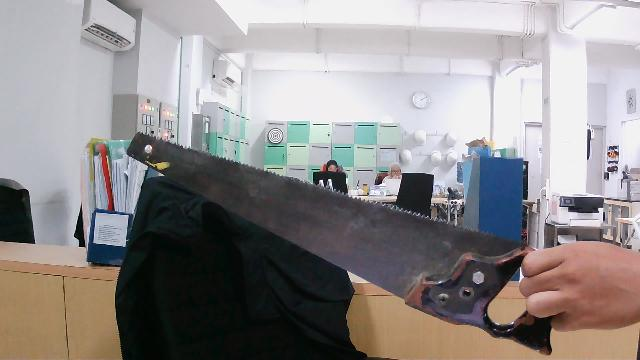gergaji_kayu: (120, 123, 564, 358)
